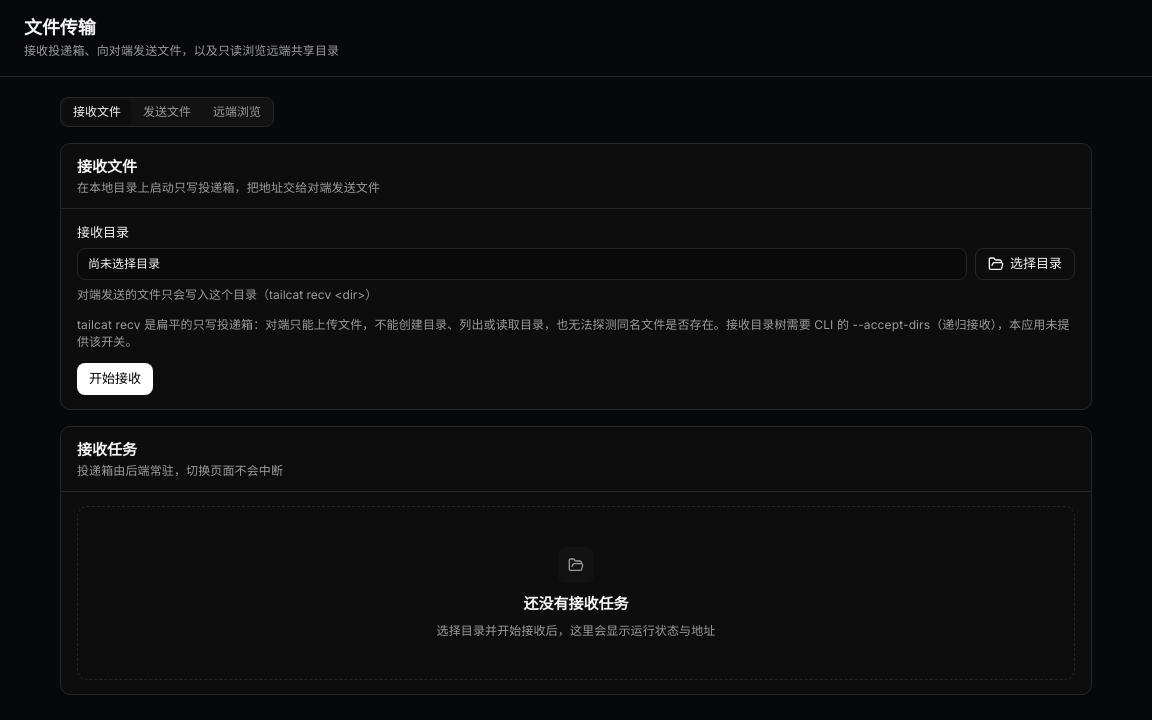
Test: TransferScreen / 接收文件 › 启动接收任务后展示地址令牌与复制发送命令
Click the button "选择目录" at (1025, 264), box top-left (975, 248), bottom-right (1075, 280)
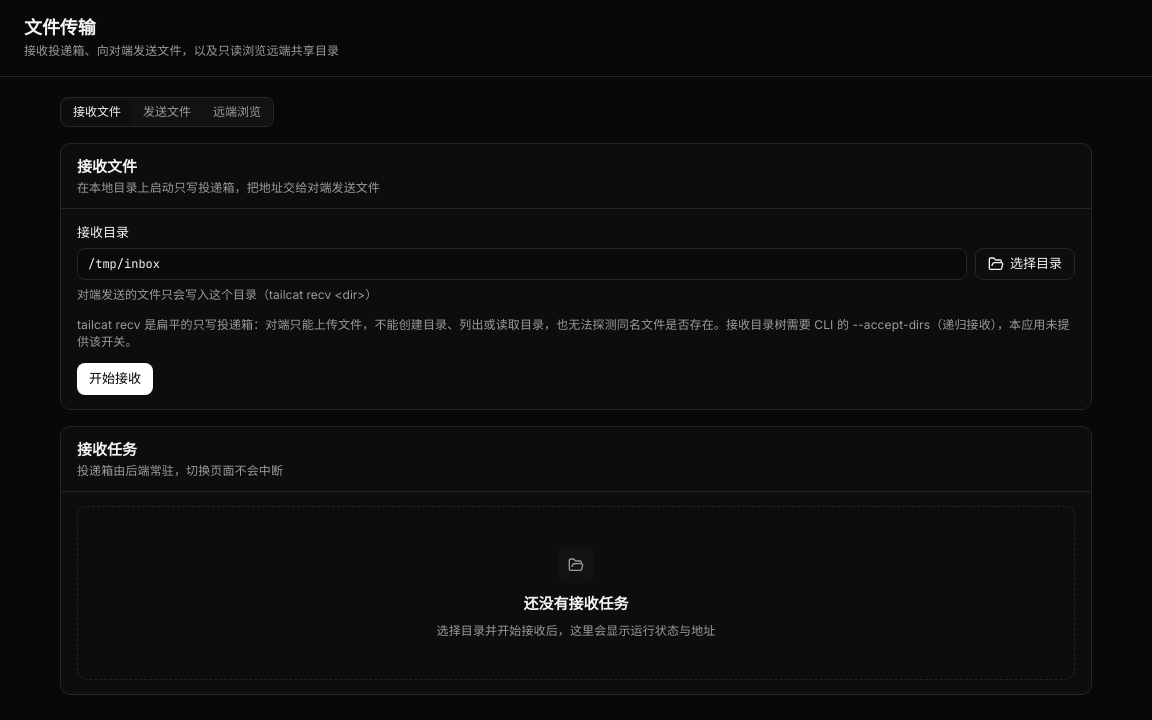
Expected: the text "/tmp/inbox" is shown, top-left (77, 248), bottom-right (967, 280)
Click the button "开始接收" at (115, 379), box top-left (77, 363), bottom-right (153, 395)
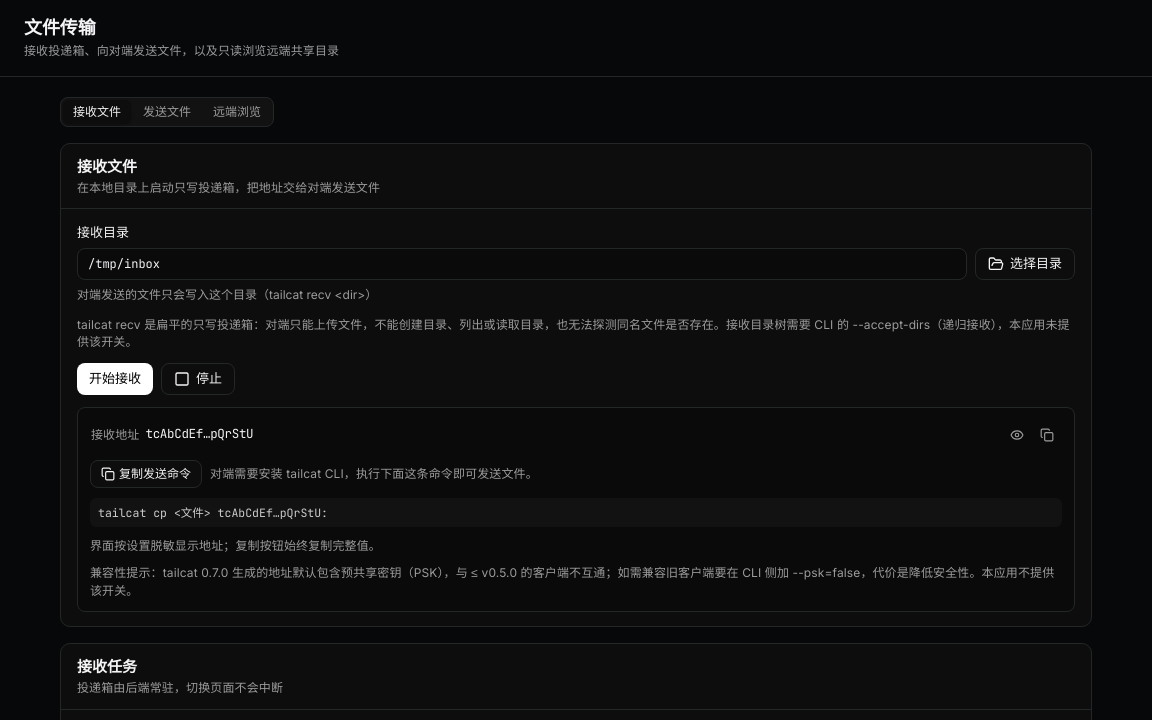
Expected: the button "复制发送命令" is shown, top-left (90, 460), bottom-right (202, 488)
